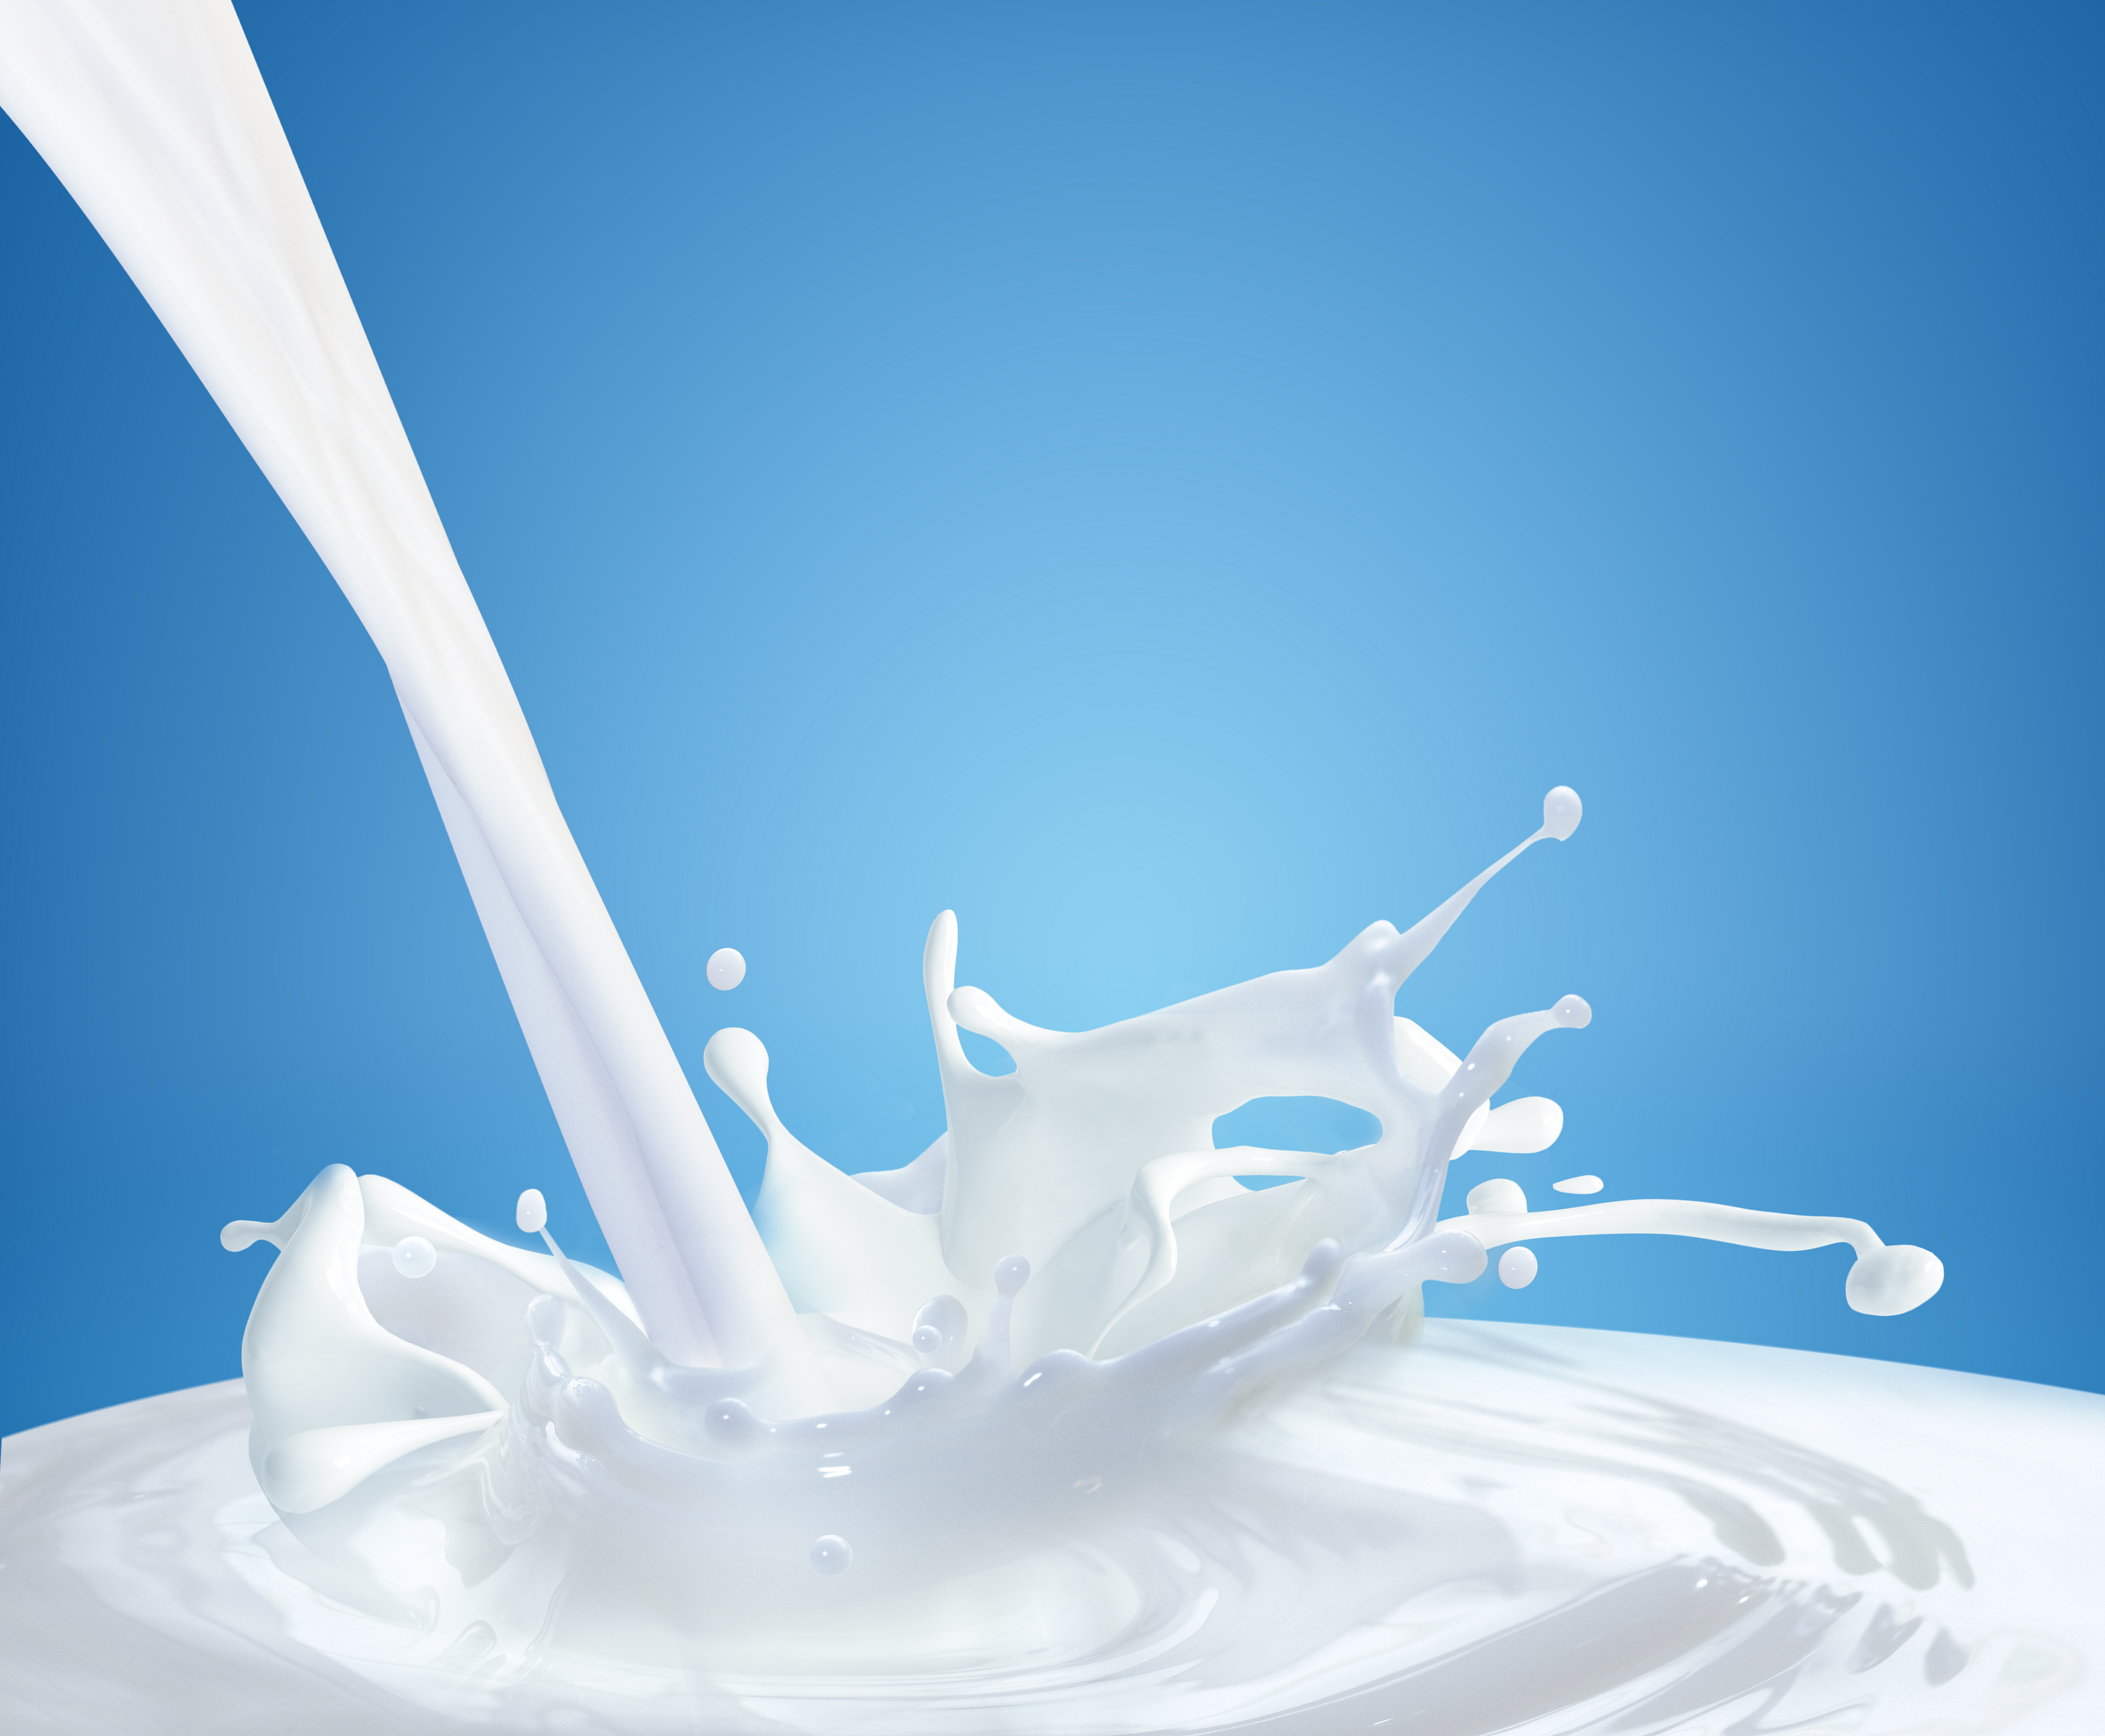glass of milk: (149, 1121, 1934, 1715)
